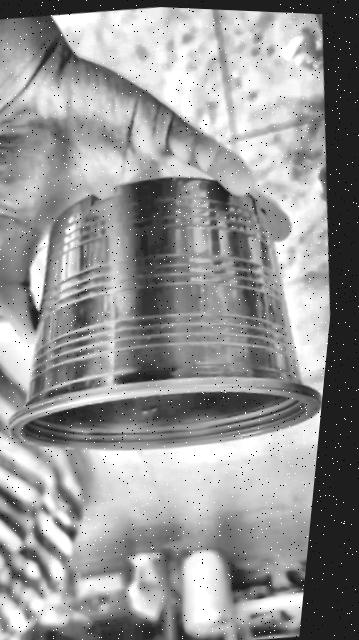pot: (0, 154, 344, 476)
